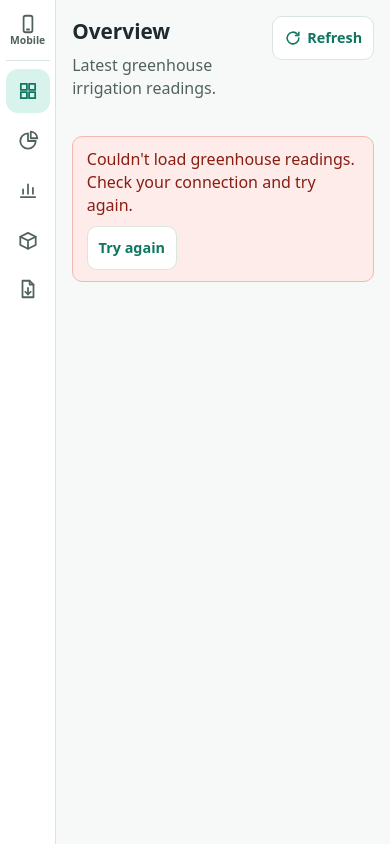
Overview › shows an error with Try again, which reloads
Check: the 2nd message shows "Couldn't load greenhouse readings. Check your connection and try again.", box 87,148 -> 355,216
What coordinates should you click on to do the following:
click the button "Try again"
I would click on:
 (132, 248)
Its box is 87,226 -> 177,270.
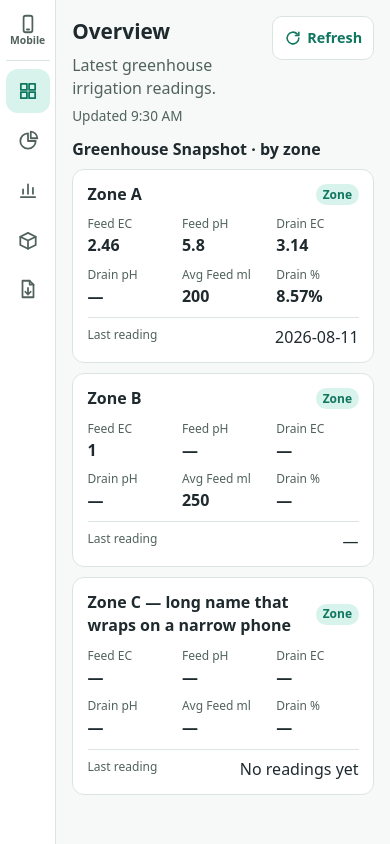
Check: the list named "Greenhouse Snapshot" is shown, box 72,169 -> 374,795
